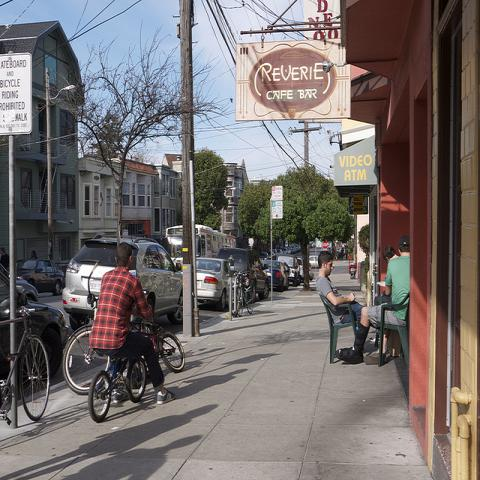bus: (166, 223, 236, 265)
car: (62, 234, 183, 332), (0, 273, 70, 394), (216, 247, 270, 305), (196, 256, 236, 310), (17, 258, 66, 295), (1, 263, 38, 302), (262, 259, 290, 292), (278, 254, 302, 286), (297, 258, 314, 282), (309, 255, 334, 269), (229, 253, 246, 270), (259, 250, 269, 264)
